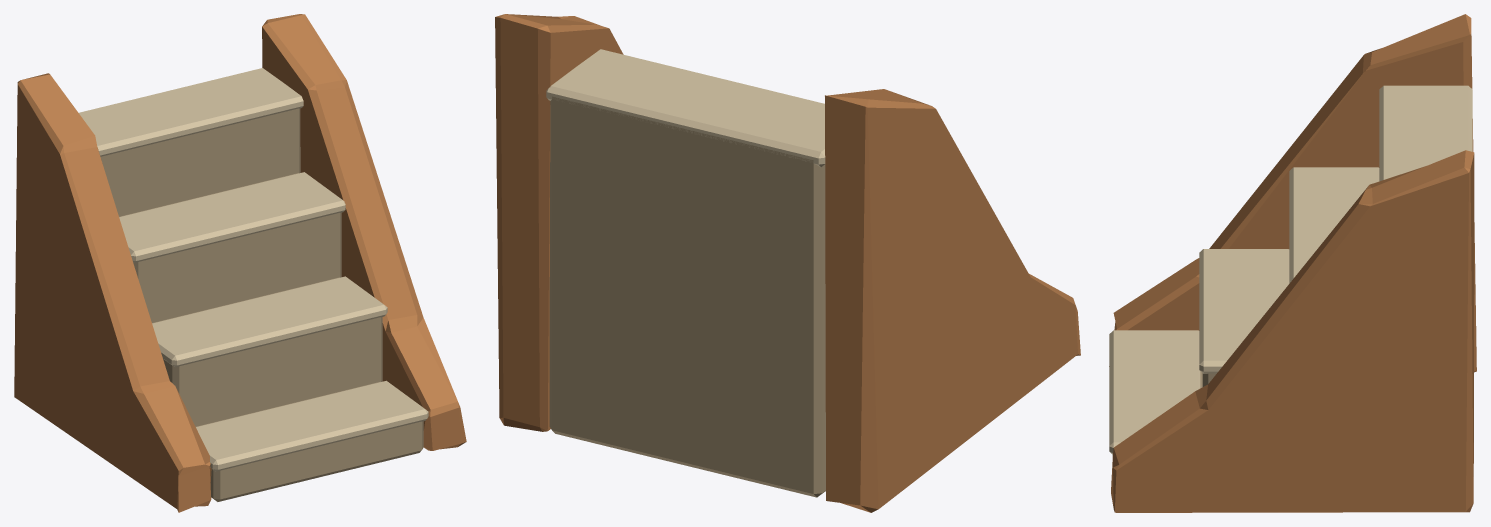
File: stairs.glb
The picture shows the model from 3 angles, left to right: view 1: azimuth 30°, elevation 25°; view 2: azimuth 150°, elevation 25°; view 3: azimuth 270°, elevation 25°; orthographic projection. The views are drawn at different scales.
Visible parts, largest first — view 1: stairs; view 2: stairs; view 3: stairs.
Part boxes in pixels (x1=…): stairs: x1=14, y1=14, x2=466, y2=512; stairs: x1=495, y1=14, x2=1080, y2=512; stairs: x1=1109, y1=14, x2=1476, y2=512.
Bounding box in the file's own units: 1.03 × 1.07 × 1.02.
